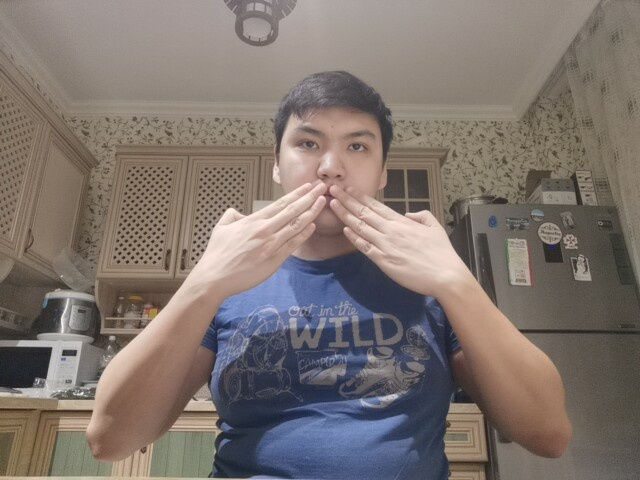Thanks: (174, 178, 500, 321)
